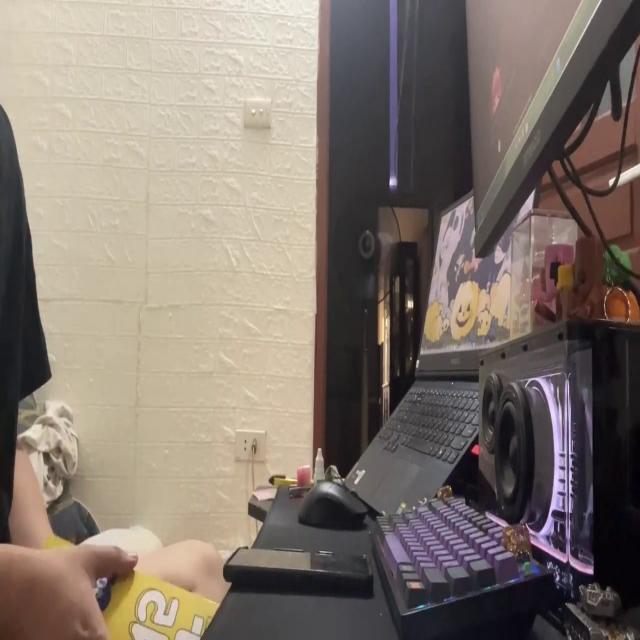book: (42, 532, 221, 640)
laptop: (346, 177, 548, 516), (464, 0, 640, 252)
phone: (221, 539, 377, 602)
student: (1, 99, 230, 640)
